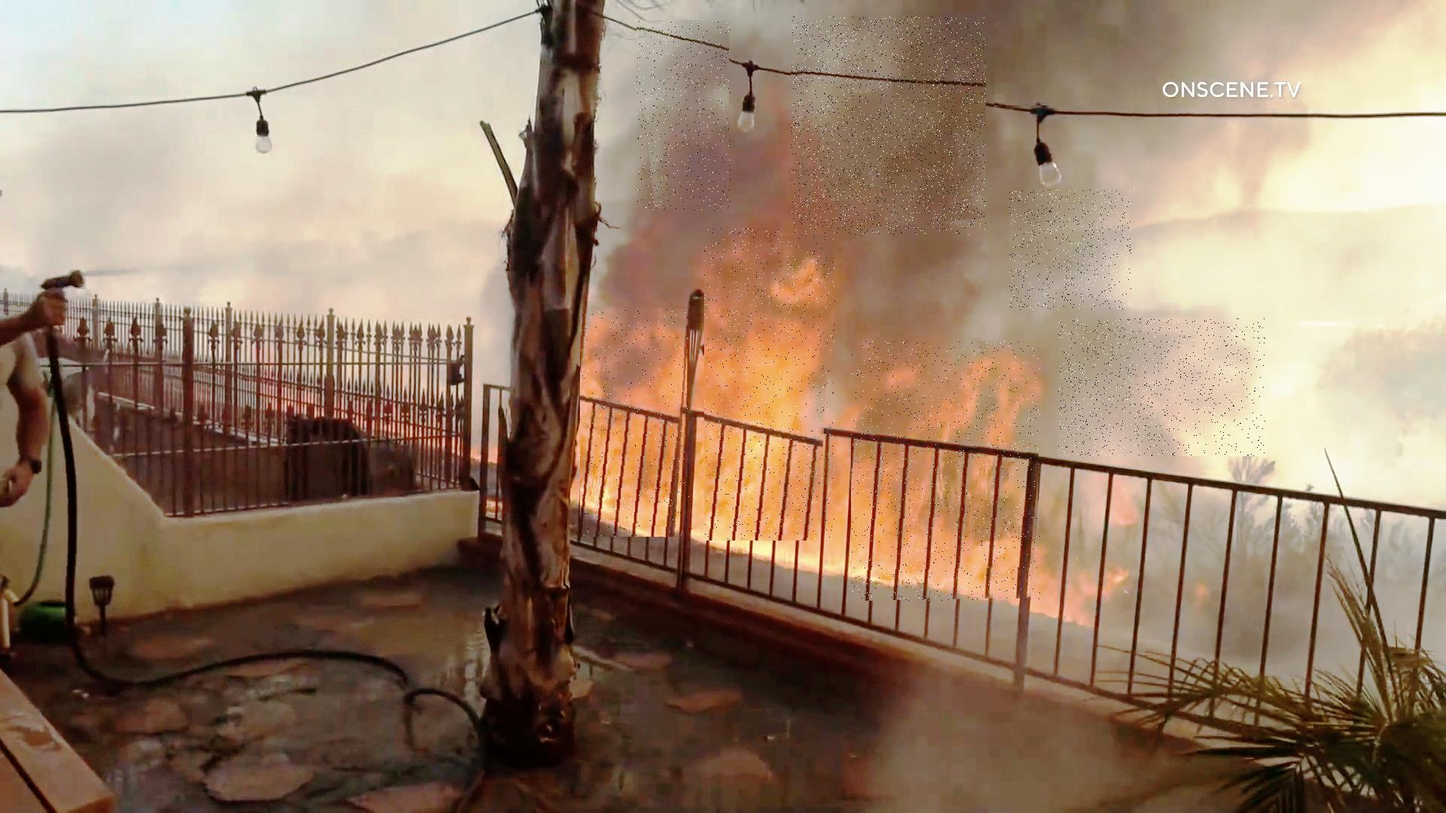fire: (851, 341, 1040, 601), (704, 228, 835, 541), (580, 309, 689, 539)
smoke: (791, 17, 986, 235), (1059, 319, 1266, 456), (637, 21, 731, 211), (994, 12, 1153, 107), (1010, 190, 1132, 311)
